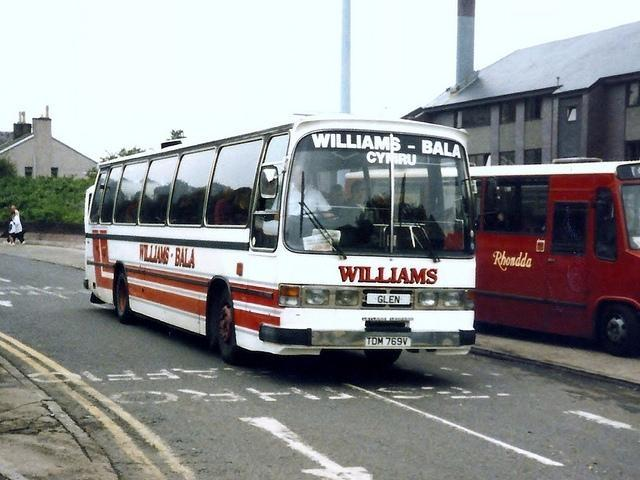bus: (86, 115, 477, 364), (479, 160, 640, 360)
